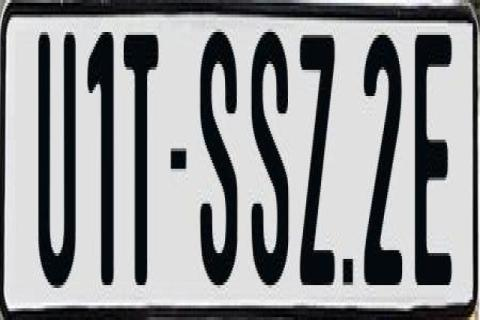0: (362, 32, 406, 294), (88, 26, 120, 291)
E: (414, 26, 452, 282)
S: (199, 26, 242, 294), (250, 26, 288, 291)
T: (122, 35, 156, 294)
U: (36, 24, 74, 282)
Z: (300, 26, 339, 282)
